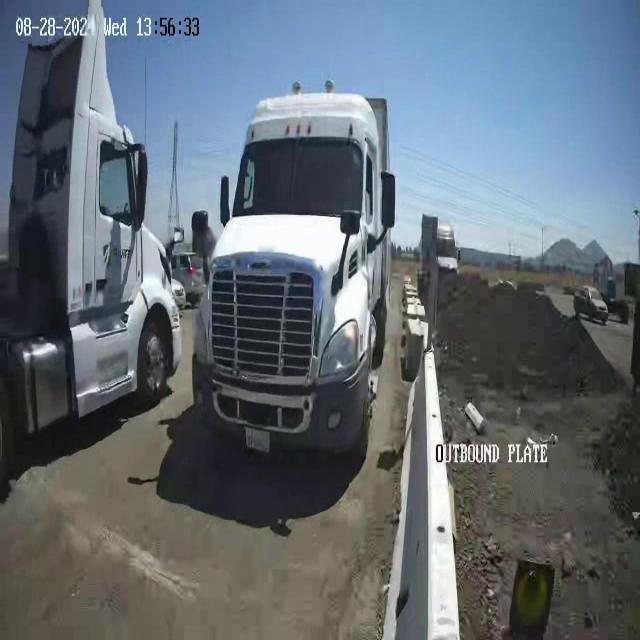TRUCK_IN: (0, 6, 182, 438)
TRUCK_OUT: (185, 79, 405, 464)
